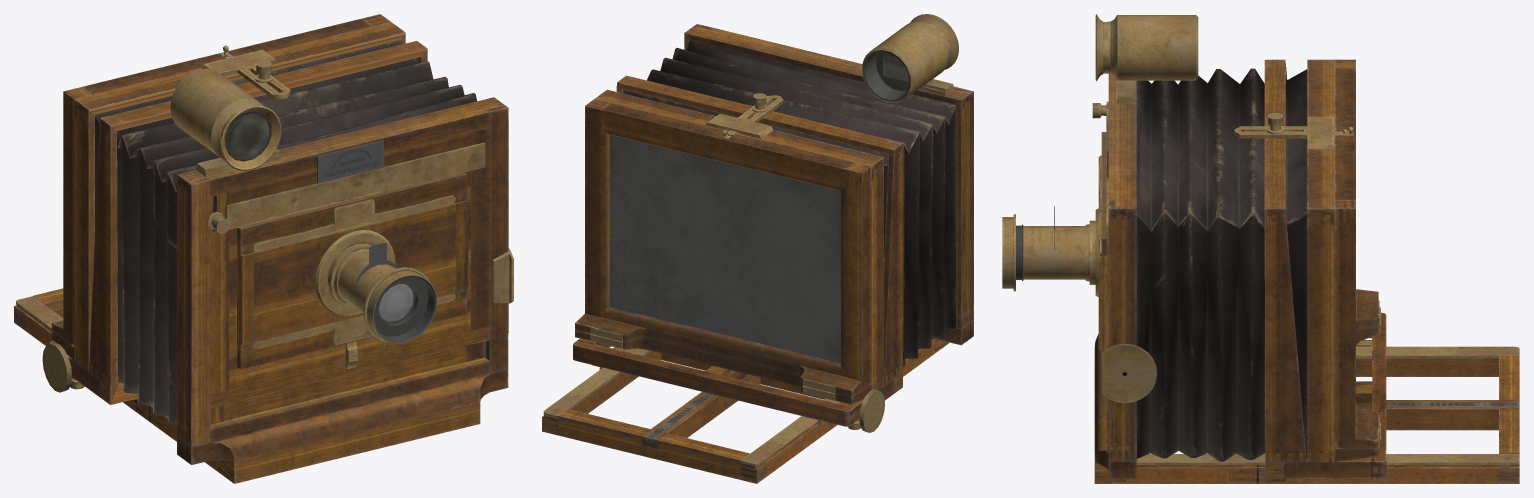
File: camera.glb
The picture shows the model from 3 angles, left to right: view 1: azimuth 30°, elevation 25°; view 2: azimuth 150°, elevation 25°; view 3: azimuth 270°, elevation 25°; orthographic projection. The views are drawn at different scales.
Parts seen in each view (by area): view 1: frame4_low, leatherbox_low, frame3_low, framebottom_low, bottom_low, plate2_low, wizjer_low, lens_low, plate4_low, lens1_low, wizjer1_low, plate3_low (+7 smaller); view 2: chliche_low, frame3_low, leatherbox_low, framebottom_low, bottom_low, frame4_low, wizjer_low, bottommetalplate_low, hingeclip1_low, hinge_low, knobbig_low; view 3: leatherbox_low, frame3_low, framebottom_low, bottom_low, frame4_low, wizjer_low, lens_low, bottommetalplate_low, circle_low, hingeclip1_low, lens1_low.
Boxes of the visible parts, <box> form: frame4_low: <box>177,97,508,464</box>; leatherbox_low: <box>95,40,486,425</box>; frame3_low: <box>51,14,405,371</box>; framebottom_low: <box>49,41,427,404</box>; bottom_low: <box>14,288,480,483</box>; plate2_low: <box>226,142,485,229</box>; wizjer_low: <box>170,69,281,170</box>; lens_low: <box>315,230,395,315</box>; plate4_low: <box>253,195,455,348</box>; lens1_low: <box>363,267,437,343</box>; wizjer1_low: <box>227,113,413,321</box>; plate3_low: <box>317,140,383,183</box>; chliche_low: <box>610,135,840,363</box>; frame3_low: <box>575,89,883,404</box>; leatherbox_low: <box>623,40,955,366</box>; framebottom_low: <box>573,75,903,426</box>; bottom_low: <box>542,339,949,483</box>; frame4_low: <box>684,24,973,345</box>; wizjer_low: <box>862,14,958,102</box>; bottommetalplate_low: <box>543,348,839,465</box>; hingeclip1_low: <box>705,95,783,138</box>; hinge_low: <box>590,327,835,400</box>; knobbig_low: <box>859,389,884,432</box>; leatherbox_low: <box>1136,68,1307,461</box>; frame3_low: <box>1307,59,1378,461</box>; framebottom_low: <box>1264,59,1386,478</box>; bottom_low: <box>1094,347,1519,483</box>; frame4_low: <box>1094,73,1136,479</box>; wizjer_low: <box>1095,14,1198,81</box>; lens_low: <box>1016,208,1098,297</box>; bottommetalplate_low: <box>1136,346,1519,464</box>; circle_low: <box>1102,343,1157,403</box>; hingeclip1_low: <box>1234,116,1334,149</box>; lens1_low: <box>1002,214,1015,291</box>.
Size of the model in its own units: 2.29 by 2.47 by 3.22.
1 material, 1 textured.
